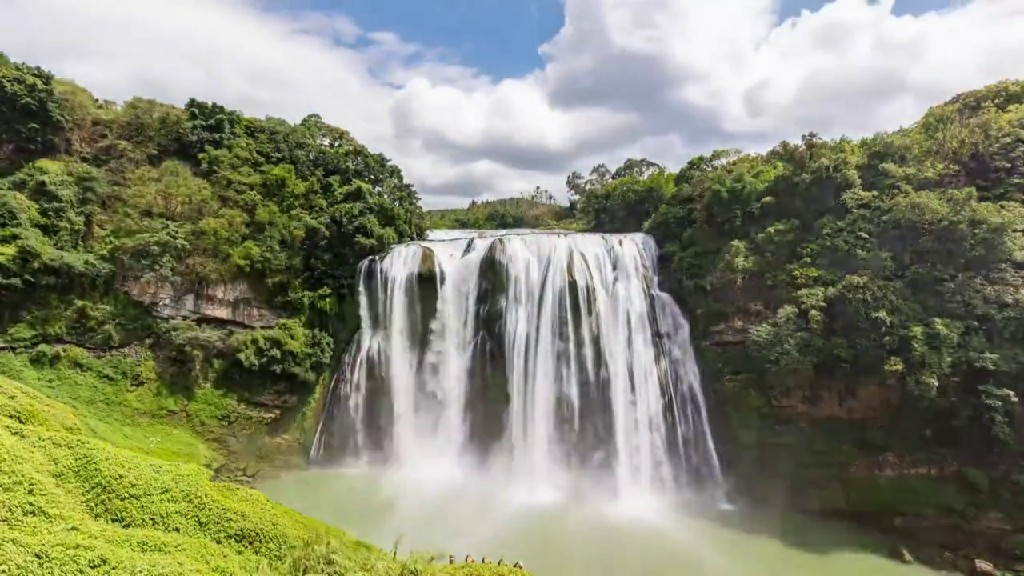Huangguoshu: (318, 230, 732, 500)
